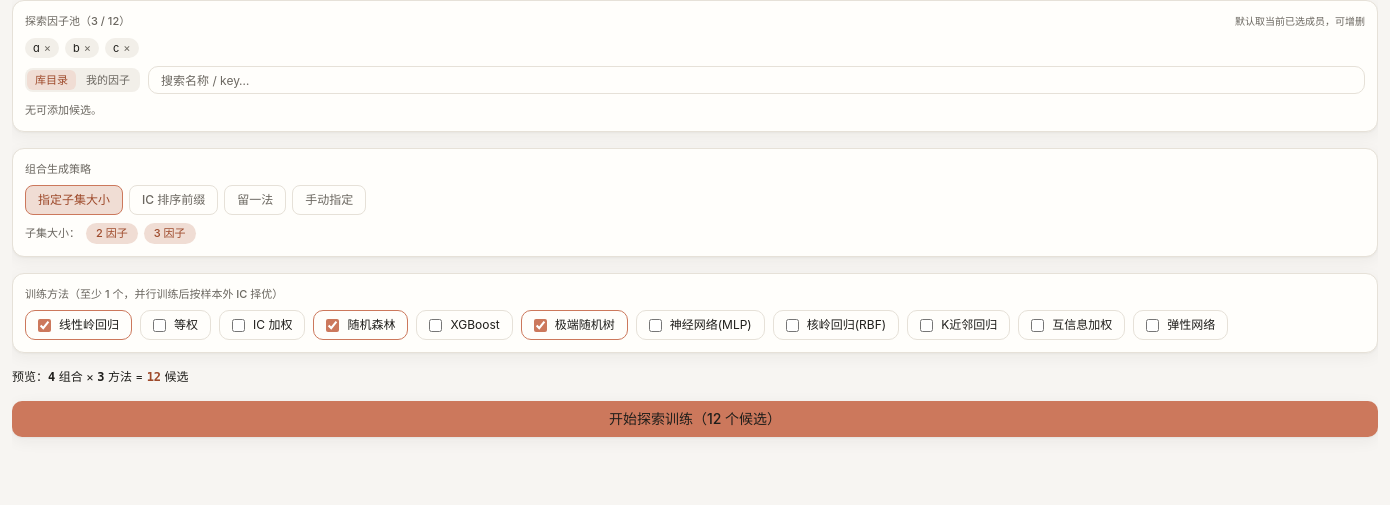
Test: ExploreConfigPanel · 手动指定策略 › 选「手动指定」渲染 ManualComboBuilder，未选组合时候选不足阻断启动
The width and height of the screenshot is (1390, 505).
Click the button "手动指定" at (329, 200), box [292,185,366,215]
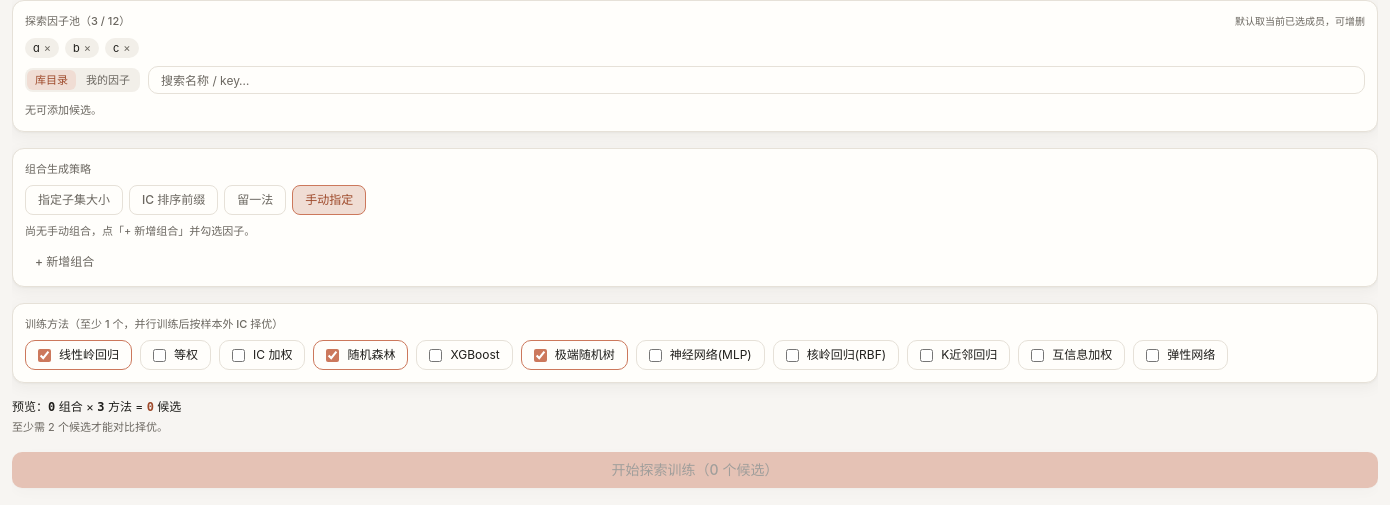
Check: the element with test id "manual-combo-builder" is shown, box [25,224,255,274]
Check: the button "开始探索训练（0 个候选）" is disabled, box [12,452,1378,488]
